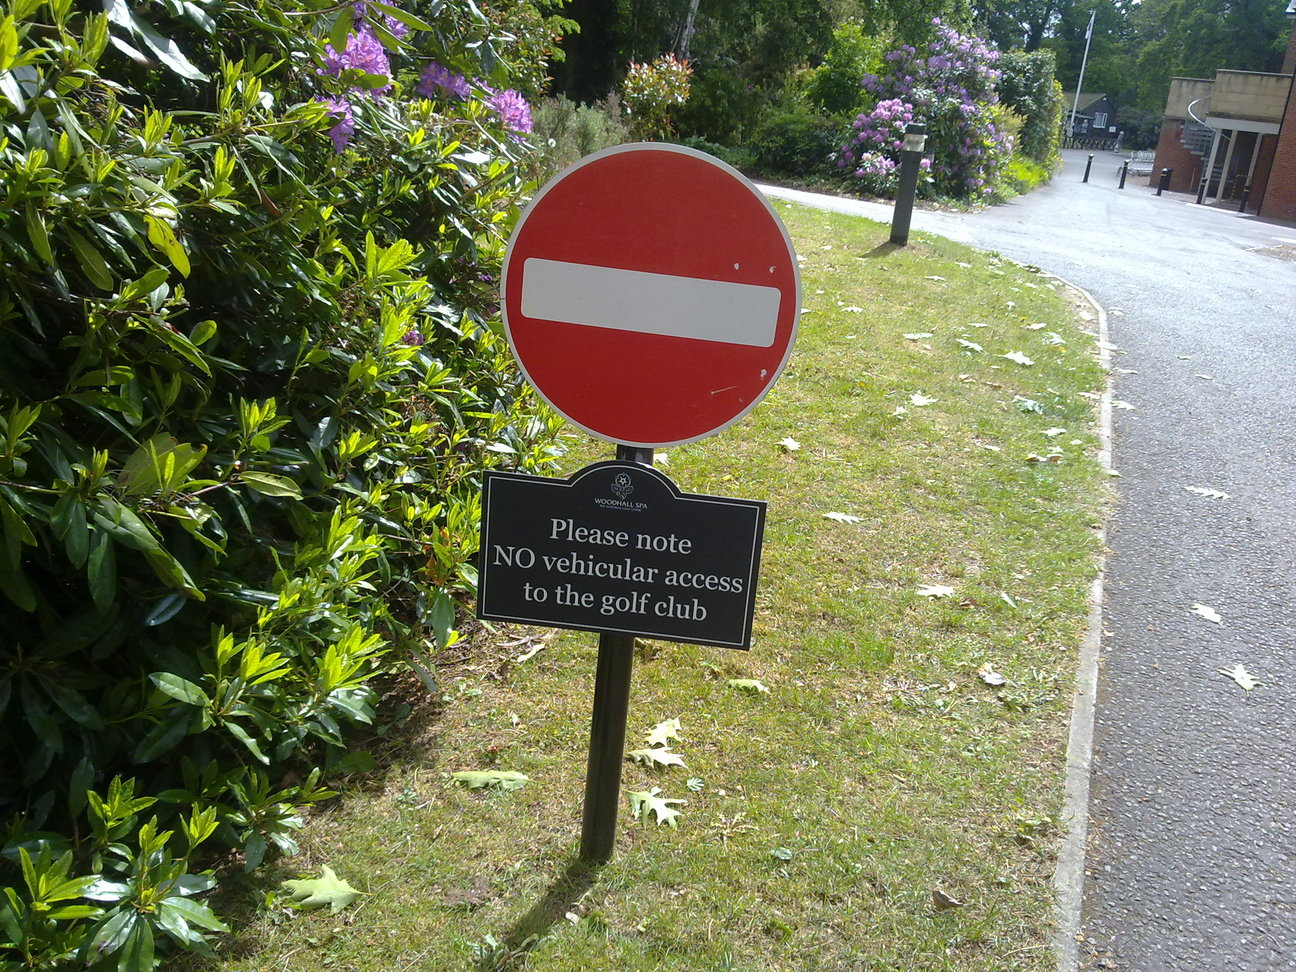No_entry: (499, 141, 801, 447)
